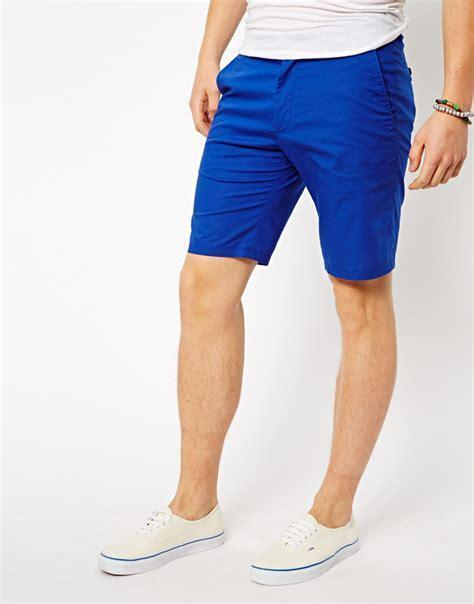short: (188, 32, 416, 279)
